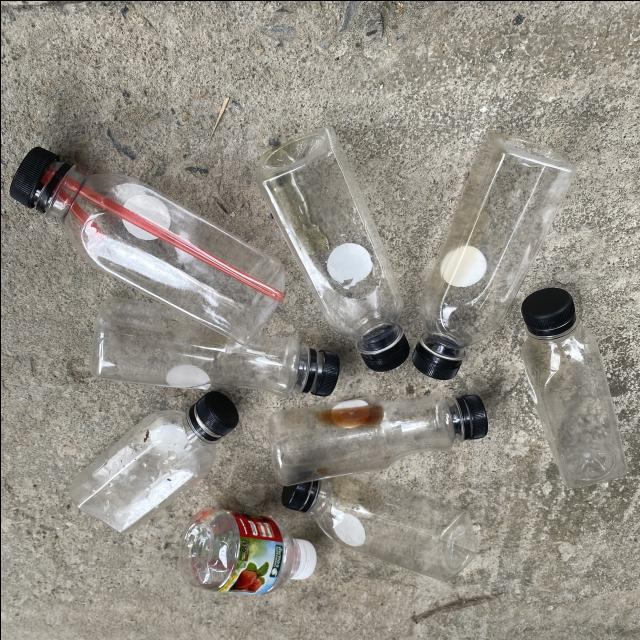plastik: (9, 146, 283, 343), (412, 130, 574, 379), (257, 125, 409, 370), (89, 296, 339, 396), (68, 391, 238, 531), (281, 472, 474, 580), (521, 288, 625, 486), (267, 393, 487, 484), (178, 509, 316, 594)
